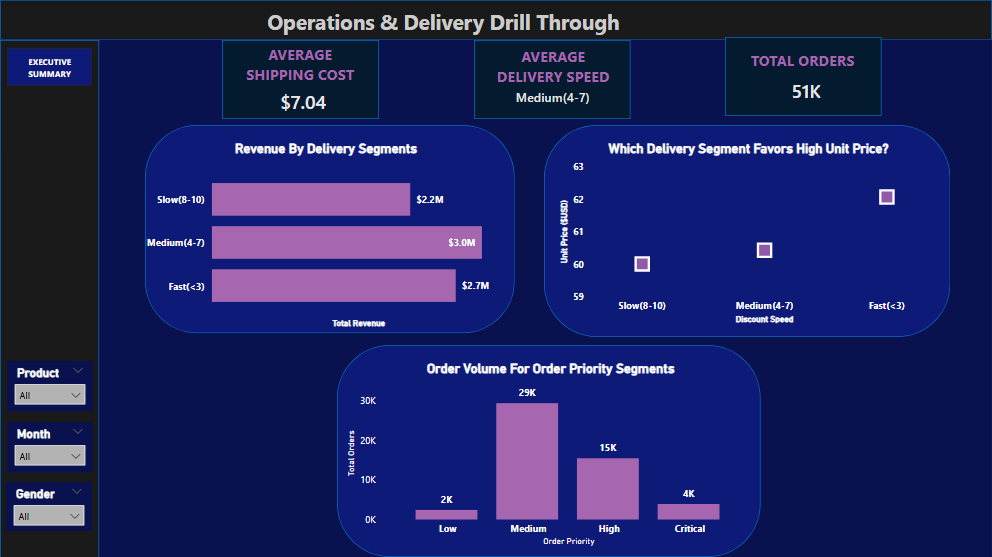

This screenshot's page, from the dashboard's own definition file:
{"tool":"powerbi","page":{"name":"OPERATIONS & DELIVERY","canvas":[1280,720],"ordinal":1},"visuals":[{"type":"shape","box":[0,0,1280,51.2],"z":0},{"type":"shape","box":[935.8,47.9,202,102],"z":0,"group":"g8"},{"type":"shape","box":[286.3,51,202.7,102],"z":0,"group":"g9"},{"type":"shape","box":[611.4,51,202,102],"z":0,"group":"g10"},{"type":"shape","box":[0,51.2,128,668.4],"z":1000},{"type":"cardVisual","fields":{"Data":["CountNonNull(public sales_clean.customer_id)"]},"box":[971.7,98.5,137.5,35.4],"z":1000,"group":"g8"},{"type":"cardVisual","fields":{"Data":["All Measures.Average Delivery Speed"]},"box":[644.4,105.4,136.1,36.7],"z":1000,"group":"g10"},{"type":"cardVisual","fields":{"Data":["All Measures.Average Shipping Cost"]},"box":[322.7,110.1,137.5,38.3],"z":1000,"group":"g9"},{"type":"textbox","box":[157.9,5.7,829.2,45.5],"z":2000},{"type":"textbox","box":[304.3,52.4,165.8,62.4],"z":2000,"group":"g9"},{"type":"textbox","box":[630.7,55.2,165.8,60.9],"z":2000,"group":"g10"},{"type":"textbox","box":[963.9,61.1,165.6,51.2],"z":2000,"group":"g8"},{"type":"slicer","title":"Month ","fields":{"Values":["DateTable.Month Name"]},"box":[9,544.5,111,64.5],"z":3000},{"type":"group","id":"g1","title":"Group 1","box":[183.4,161.2,480.8,268.7],"z":4000},{"type":"shape","box":[701.5,161.2,524.4,273.5],"z":4000,"group":"g4"},{"type":"shape","box":[187,161.2,477.1,268.7],"z":4500,"group":"g1"},{"type":"barChart","title":"Revenue By Delivery Segments","fields":{"Category":["public sales_clean.aging_days_bracket"],"Y":["All Measures.Total Revenue"]},"box":[183.4,181.8,474.6,246.3],"z":4750,"group":"g1"},{"type":"group","id":"g2","title":"Group 2","box":[286.3,51,202.7,102],"z":5000},{"type":"shape","box":[434.3,444.8,546.6,273.6],"z":5000,"group":"g13"},{"type":"group","id":"g3","title":"Group 2","box":[611.4,51,202,102],"z":6000},{"type":"columnChart","title":" Order Volume For Order Priority Segments","fields":{"Category":["public sales_clean.order_priority"],"Y":["CountNonNull(public sales_clean.customer_id)"]},"box":[442.2,465.4,535.9,243.6],"z":6000,"group":"g13"},{"type":"scatterChart","title":"Which Delivery Segment Favors High Unit Price?","fields":{"Y":["All Measures.Unit Price"],"X":["public sales_clean.aging_days_bracket"]},"box":[716.9,181.7,497.2,240.4],"z":7000,"group":"g4"},{"type":"slicer","title":"Gender","fields":{"Values":["public sales_clean.gender"]},"box":[7.7,621.9,111,63.2],"z":7000},{"type":"group","id":"g4","title":"Group 2","box":[701.5,161.2,525.4,273.1],"z":8000},{"type":"group","id":"g5","title":"Group 3","box":[935.8,47.9,202,102],"z":8001,"group":"g12"},{"type":"group","id":"g6","title":"Group 3","box":[286.3,51,202.7,102],"z":8001,"group":"g2"},{"type":"group","id":"g7","title":"Group 3","box":[611.4,51,202,102],"z":8001,"group":"g3"},{"type":"group","id":"g8","title":"Group 4","box":[935.8,47.9,202,102],"z":8002,"group":"g5"},{"type":"group","id":"g9","title":"Group 4","box":[286.3,51,202.7,102],"z":8002,"group":"g6"},{"type":"group","id":"g10","title":"Group 4","box":[611.4,51,202,102],"z":8002,"group":"g7"},{"type":"group","id":"g11","title":"Group 3","box":[434.3,444.8,546.3,264.2],"z":9000},{"type":"group","id":"g12","title":"Group 2","box":[935.8,47.9,202,102],"z":10000},{"type":"group","id":"g13","title":"Group 5","box":[434.3,444.8,546.6,273.6],"z":10001,"group":"g11"},{"type":"pageNavigator","box":[9,61.9,111,49],"z":11000},{"type":"slicer","fields":{"Values":["public sales_clean.product_category"]},"box":[9,465.8,111,64.5],"z":12000}]}

Visuals, with their boxes in screenshot pixels (x1, y1, x2, y2), scaled from the page's 1280x720 canvas onto the 992x557 screenshot:
shape: [x1=0, y1=0, x2=991, y2=40]
shape: [x1=725, y1=37, x2=882, y2=116]
shape: [x1=222, y1=39, x2=379, y2=118]
shape: [x1=474, y1=39, x2=630, y2=118]
shape: [x1=0, y1=40, x2=99, y2=556]
cardVisual - CountNonNull(public sales_clean.customer_id): [x1=753, y1=76, x2=860, y2=104]
cardVisual - All Measures.Average Delivery Speed: [x1=499, y1=82, x2=605, y2=110]
cardVisual - All Measures.Average Shipping Cost: [x1=250, y1=85, x2=357, y2=115]
textbox: [x1=122, y1=4, x2=765, y2=40]
textbox: [x1=236, y1=41, x2=364, y2=89]
textbox: [x1=489, y1=43, x2=617, y2=90]
textbox: [x1=747, y1=47, x2=875, y2=87]
"Month " slicer: [x1=7, y1=421, x2=93, y2=471]
"Group 1" group: [x1=142, y1=125, x2=515, y2=333]
shape: [x1=544, y1=125, x2=950, y2=336]
shape: [x1=145, y1=125, x2=515, y2=333]
"Revenue By Delivery Segments" barChart: [x1=142, y1=141, x2=510, y2=331]
"Group 2" group: [x1=222, y1=39, x2=379, y2=118]
shape: [x1=337, y1=344, x2=760, y2=556]
"Group 2" group: [x1=474, y1=39, x2=630, y2=118]
" Order Volume For Order Priority Segments" columnChart: [x1=343, y1=360, x2=758, y2=548]
"Which Delivery Segment Favors High Unit Price?" scatterChart: [x1=556, y1=141, x2=941, y2=327]
"Gender" slicer: [x1=6, y1=481, x2=92, y2=530]
"Group 2" group: [x1=544, y1=125, x2=951, y2=336]
"Group 3" group: [x1=725, y1=37, x2=882, y2=116]
"Group 3" group: [x1=222, y1=39, x2=379, y2=118]
"Group 3" group: [x1=474, y1=39, x2=630, y2=118]
"Group 4" group: [x1=725, y1=37, x2=882, y2=116]
"Group 4" group: [x1=222, y1=39, x2=379, y2=118]
"Group 4" group: [x1=474, y1=39, x2=630, y2=118]
"Group 3" group: [x1=337, y1=344, x2=760, y2=548]
"Group 2" group: [x1=725, y1=37, x2=882, y2=116]
"Group 5" group: [x1=337, y1=344, x2=760, y2=556]
pageNavigator: [x1=7, y1=48, x2=93, y2=86]
slicer - public sales_clean.product_category: [x1=7, y1=360, x2=93, y2=410]
